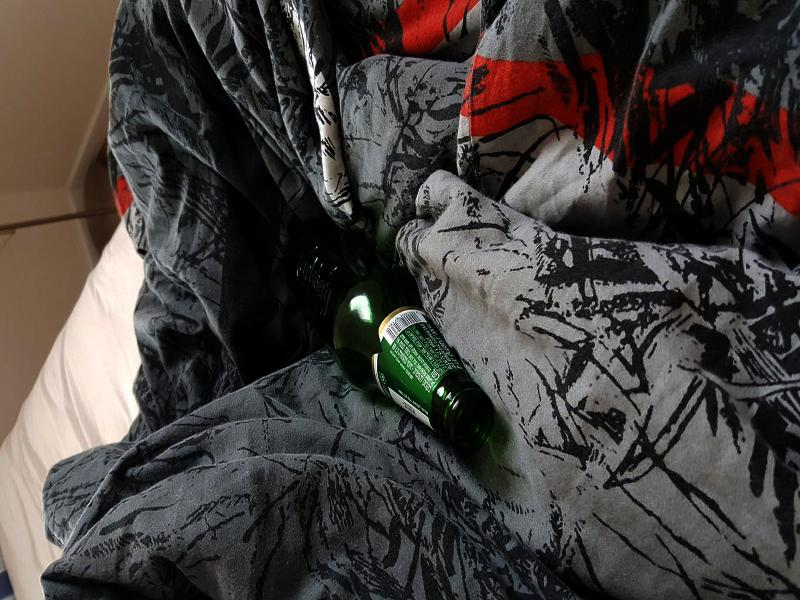Beer: (285, 216, 494, 450)
